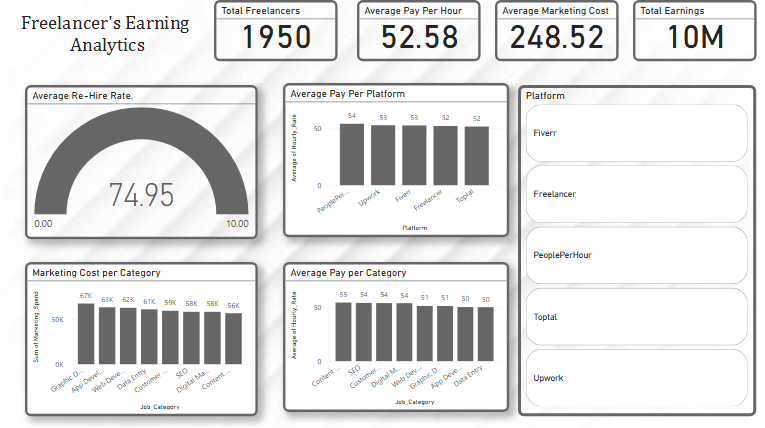

Layout of this report page (visuals, bound fields, positions):
{"tool":"powerbi","page":{"name":"Page 1","canvas":[1280,720],"ordinal":0},"visuals":[{"type":"gauge","title":"Average Re-Hire Rate.","fields":{"Y":["Avg(freelancer_earnings_bd.Job_Success_Rate)"],"TargetValue":["Max(freelancer_earnings_bd.Job_Success_Rate)1"],"MaxValue":["Min(freelancer_earnings_bd.Rehire_Rate)"]},"box":[46.5,141.2,387.9,257.4],"z":0},{"type":"card","title":"Average Pay Per Hour","fields":{"Values":["Avg(freelancer_earnings_bd.Hourly_Rate)"]},"box":[600.7,0,205.6,101.9],"z":1000},{"type":"card","title":"Total Freelancers","fields":{"Values":["Count(freelancer_earnings_bd.Freelancer_ID)"]},"box":[361.1,0,205.6,101.9],"z":2000},{"type":"card","title":"Average Marketing Cost","fields":{"Values":["Avg(freelancer_earnings_bd.Marketing_Spend)"]},"box":[829.5,0,205.6,101.9],"z":3000},{"type":"card","title":"Total Earnings","fields":{"Values":["Sum(freelancer_earnings_bd.Earnings_USD)"]},"box":[1060.1,0,205.6,101.9],"z":4000},{"type":"columnChart","title":"Average Pay Per Platform","fields":{"Y":["Avg(freelancer_earnings_bd.Hourly_Rate)"],"Category":["freelancer_earnings_bd.Platform"]},"box":[477.3,137.7,377.2,257.4],"z":5000},{"type":"columnChart","title":"Average Pay per Category","fields":{"Y":["Avg(freelancer_earnings_bd.Hourly_Rate)"],"Category":["freelancer_earnings_bd.Job_Category"]},"box":[477.3,436.2,377.2,250.3],"z":6000},{"type":"columnChart","title":"Marketing Cost per Category","fields":{"Category":["freelancer_earnings_bd.Job_Category"],"Y":["Sum(freelancer_earnings_bd.Marketing_Spend)"]},"box":[46.5,436.2,387.9,257.4],"z":7000},{"type":"textbox","box":[0,12.5,361.1,89.4],"z":8001},{"type":"advancedSlicerVisual","fields":{"Values":["freelancer_earnings_bd.Platform"]},"box":[868.8,141.2,396.9,552.4],"z":8002}]}

Visuals, with their boxes in screenshot pixels (x1, y1, x2, y2), scaled from the page's 1280x720 canvas onto the 765x428 screenshot:
"Average Re-Hire Rate." gauge: <region>28, 84, 260, 237</region>
"Average Pay Per Hour" card: <region>359, 0, 482, 61</region>
"Total Freelancers" card: <region>216, 0, 339, 61</region>
"Average Marketing Cost" card: <region>496, 0, 619, 61</region>
"Total Earnings" card: <region>634, 0, 756, 61</region>
"Average Pay Per Platform" columnChart: <region>285, 82, 511, 235</region>
"Average Pay per Category" columnChart: <region>285, 259, 511, 408</region>
"Marketing Cost per Category" columnChart: <region>28, 259, 260, 412</region>
textbox: <region>0, 7, 216, 61</region>
advancedSlicerVisual - freelancer_earnings_bd.Platform: <region>519, 84, 756, 412</region>
